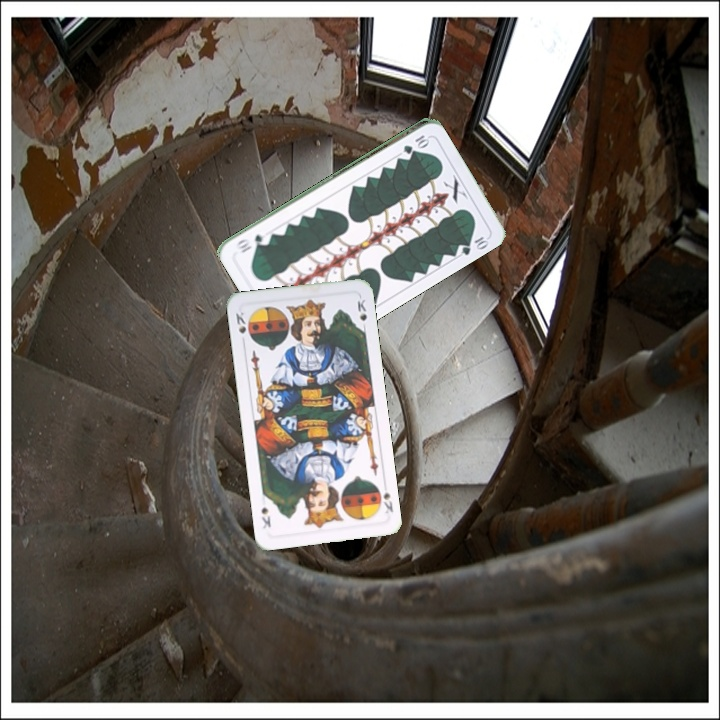G10: (399, 131, 431, 155)
SK: (232, 308, 248, 347), (379, 488, 396, 516)
